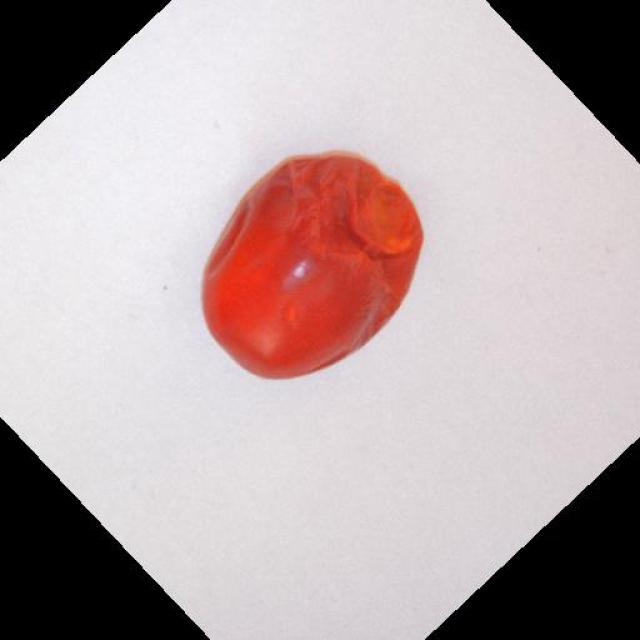Stale_tomato: (214, 164, 424, 393)
